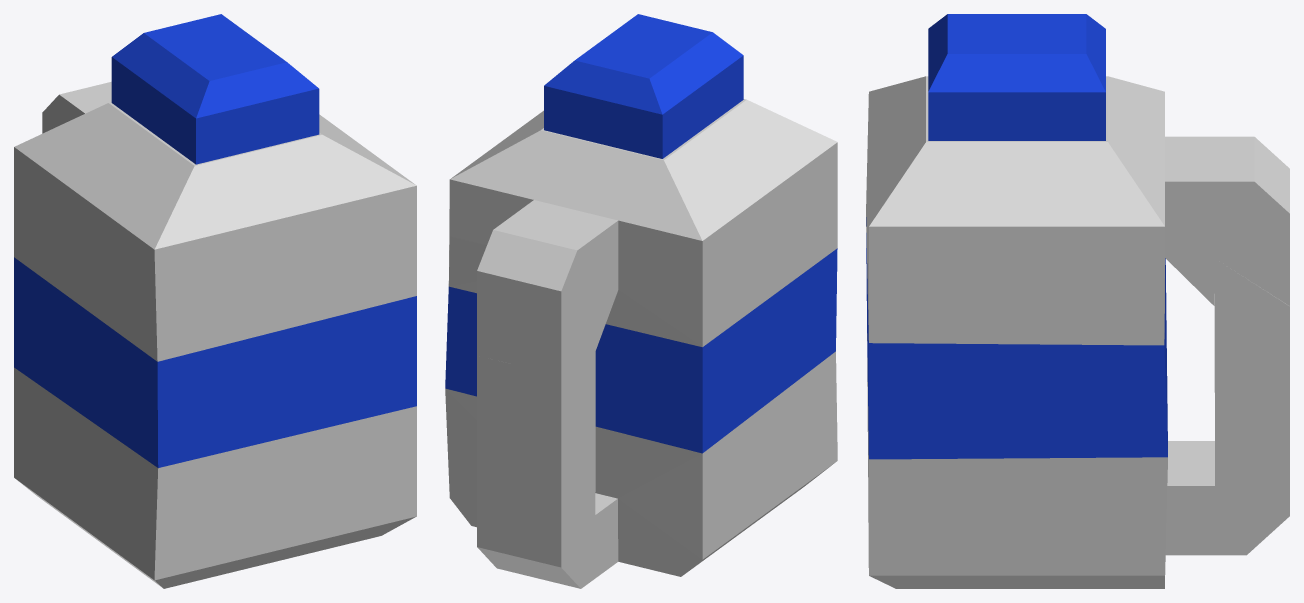
The model's file is plastic tide bottle 2.fbx.
3 views of the same model, side by side, from view 1: azimuth 30°, elevation 25°; view 2: azimuth 150°, elevation 25°; view 3: azimuth 270°, elevation 25° (orthographic). The views are drawn at different scales.
Parts seen in each view (by area): view 1: Cube; view 2: Cube; view 3: Cube.
Part boxes in pixels (x1,y1,x2,y2): Cube: (14,14,416,588); Cube: (445,14,837,588); Cube: (866,14,1289,588).
Bounding box in the file's own units: 152 × 259 × 199.
